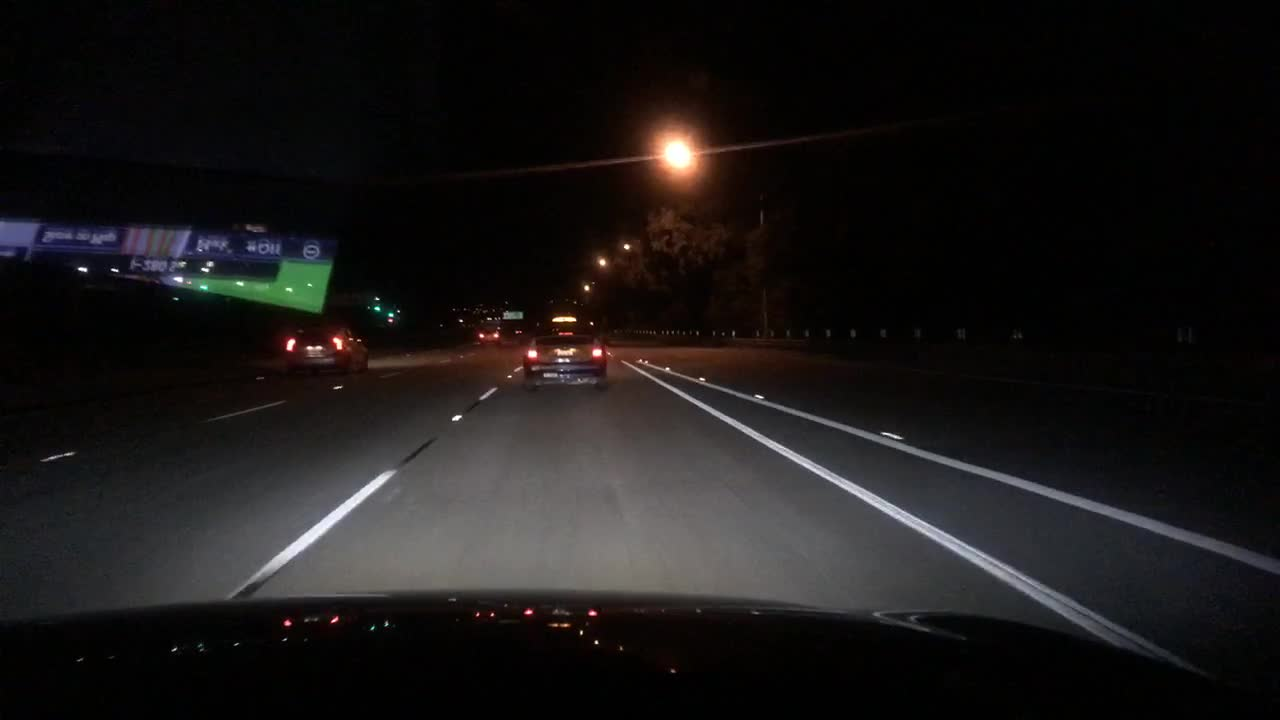car: (518, 324, 608, 389), (279, 322, 368, 377), (475, 327, 501, 345), (501, 326, 524, 343)
traffic light: (385, 307, 399, 319), (368, 304, 383, 313)
